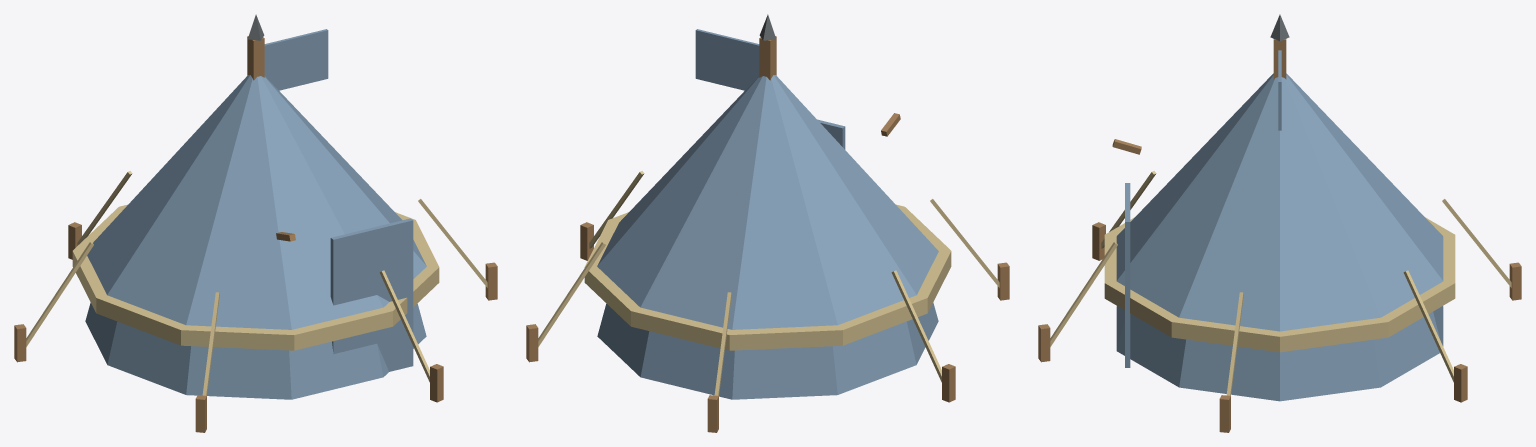
The model's file is bell-tent.glb.
3 views of the same model, side by side, from view 1: azimuth 30°, elevation 25°; view 2: azimuth 150°, elevation 25°; view 3: azimuth 270°, elevation 25° (orthographic).
Visible parts, largest first — view 1: bell-tent, tent-flap; view 2: bell-tent; view 3: bell-tent, tent-flap.
Part boxes in pixels (x1,y1,x2,y2): bell-tent: (14,14,497,432); tent-flap: (330,218,413,371); bell-tent: (526,14,1009,432); bell-tent: (1038,14,1521,432); tent-flap: (1125,183,1130,367).
Size of the model in its own units: 4.59 by 3.24 by 4.51.
